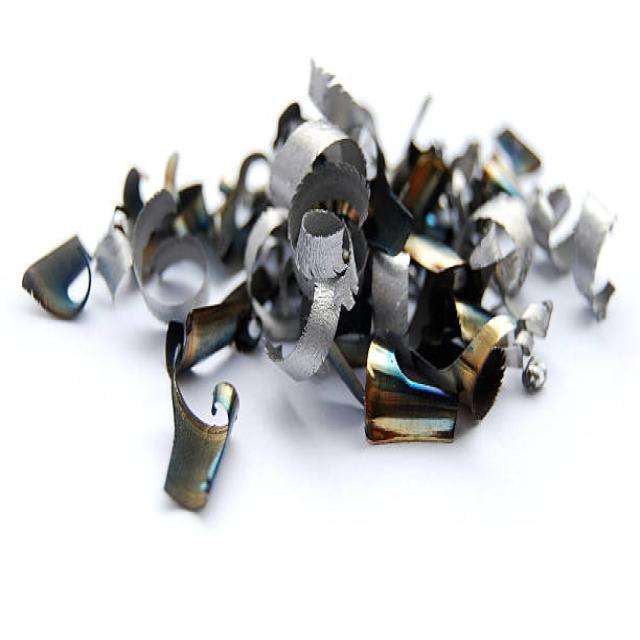metal: (143, 276, 267, 501), (359, 340, 465, 442), (402, 123, 447, 270)
